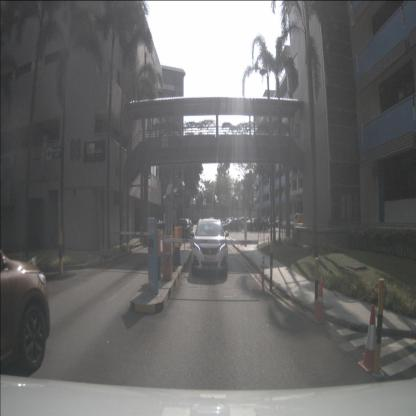movable_object-trafficcone: (357, 303, 382, 374), (313, 276, 324, 326), (260, 253, 266, 294), (104, 241, 107, 267), (100, 242, 103, 266)
vehicle-car: (0, 248, 51, 374), (192, 219, 228, 275), (176, 218, 193, 240), (295, 213, 313, 232), (222, 218, 244, 232), (250, 218, 270, 231)
